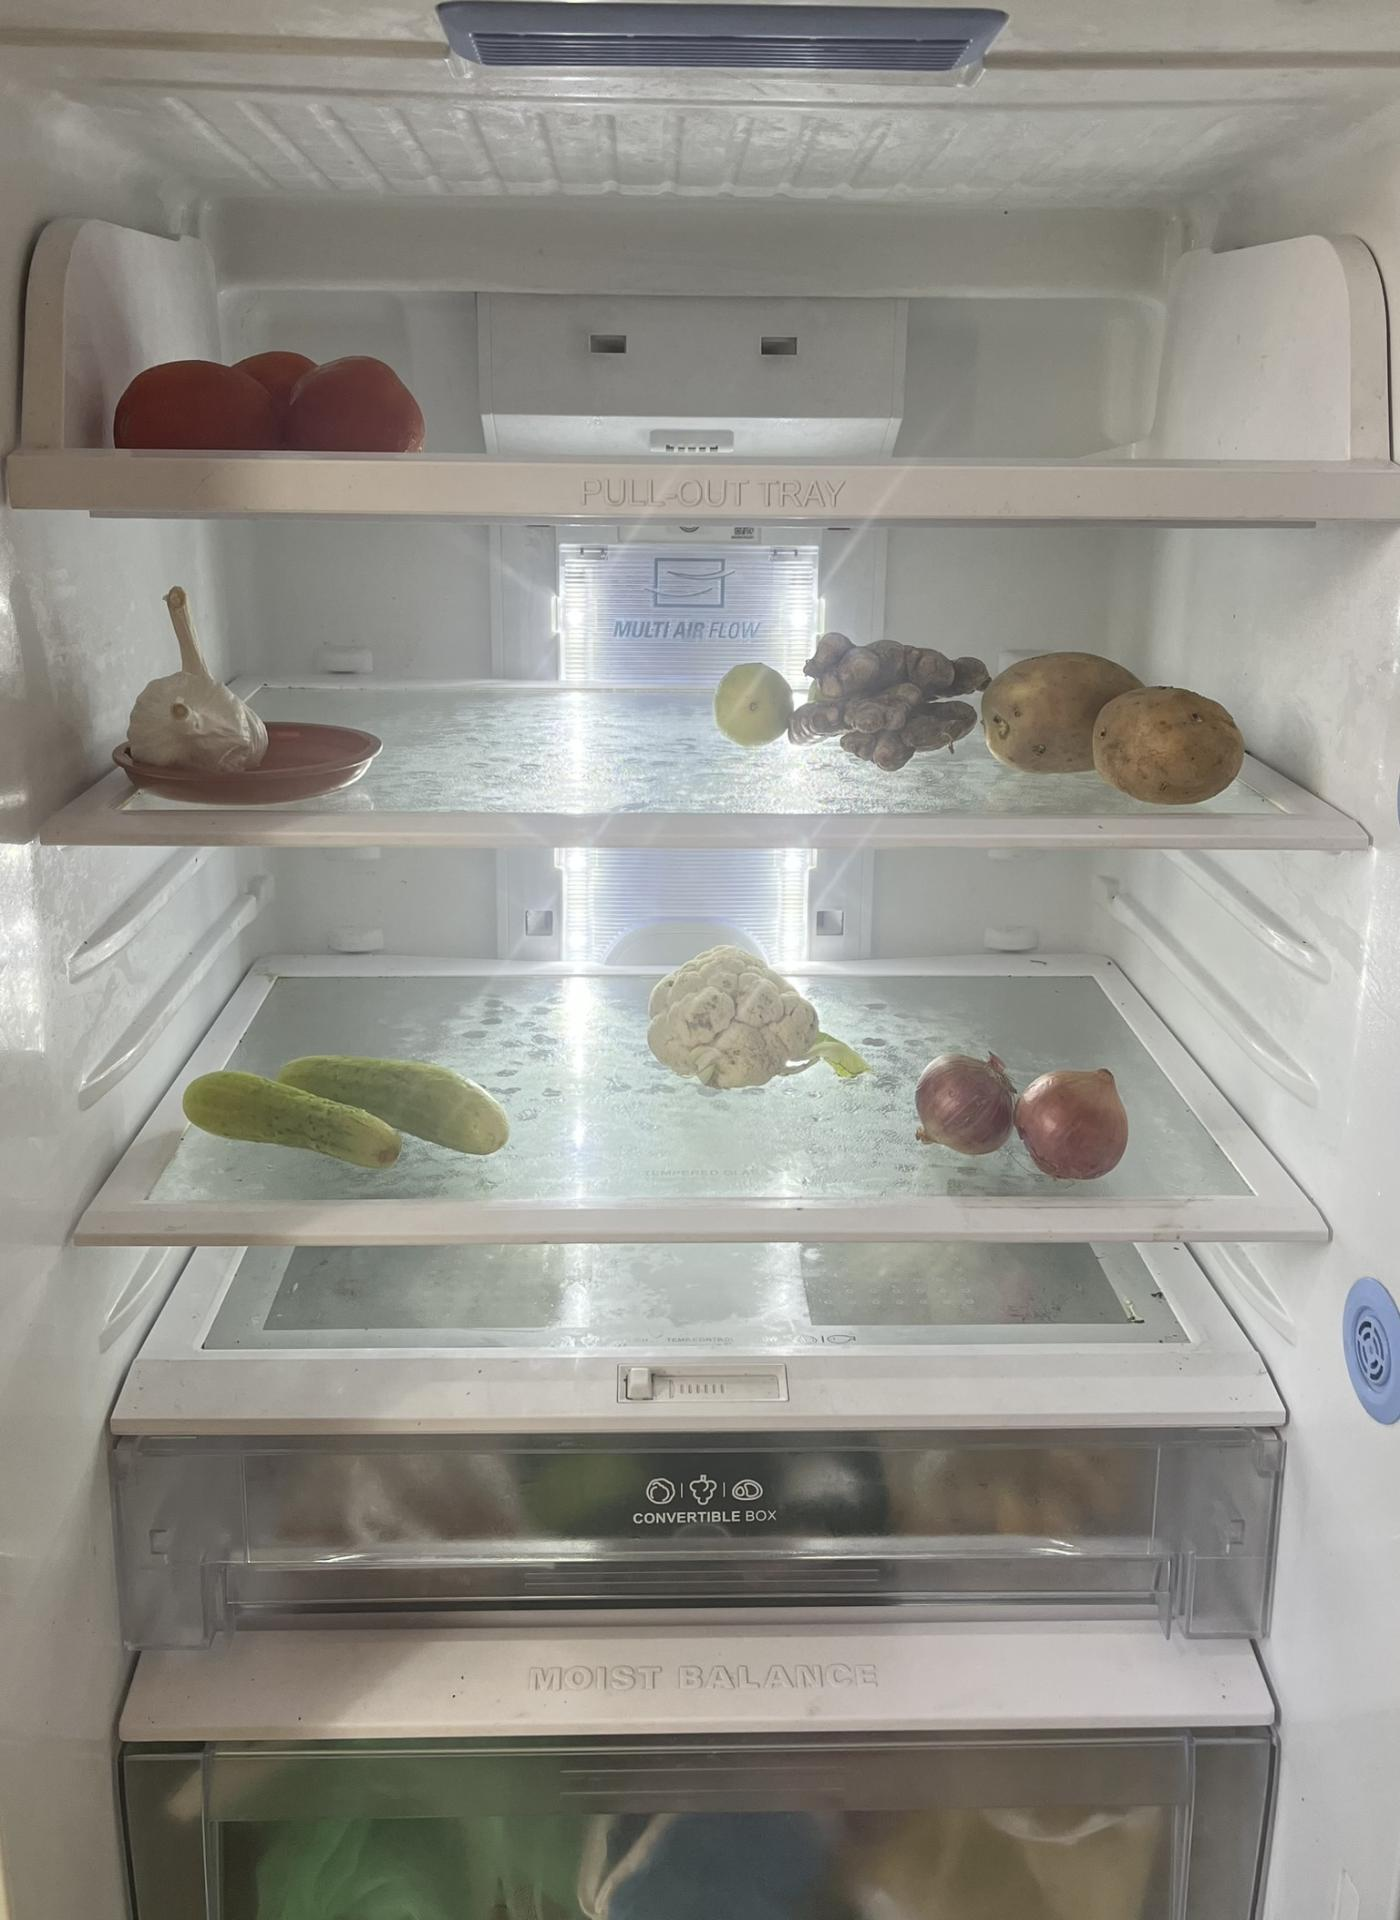cauliflower: (644, 944, 853, 1097)
cucumber: (179, 1043, 522, 1160)
garlic: (131, 580, 265, 763)
ginger: (795, 625, 993, 766)
lemon: (711, 650, 798, 753)
onion: (1017, 1054, 1133, 1178), (914, 1039, 1021, 1152)
potato: (988, 637, 1252, 795)
tomato: (115, 350, 425, 455)
